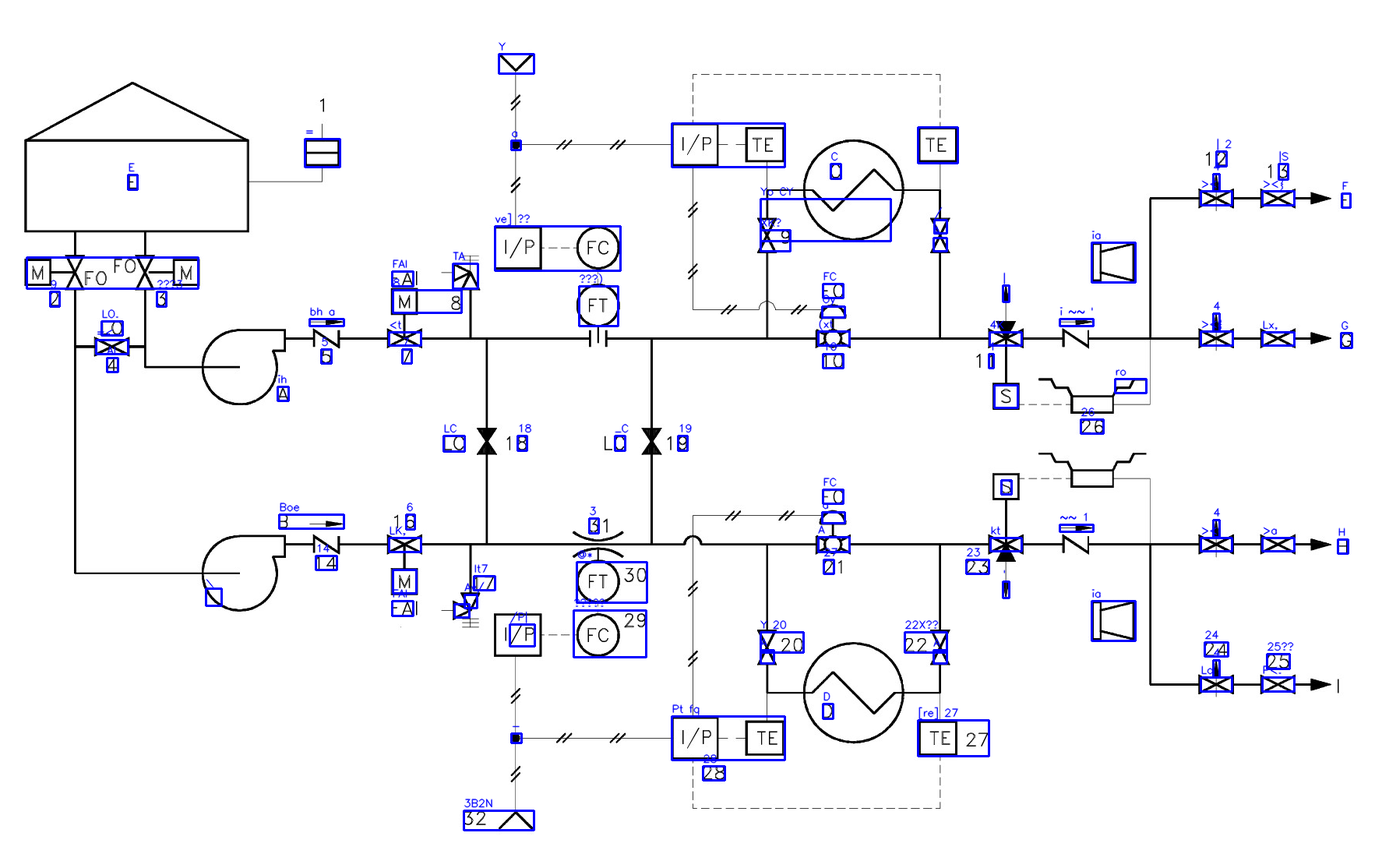Compressor: (197, 531, 289, 616), (197, 326, 289, 410)
Instrumento: (571, 281, 625, 330), (572, 558, 624, 605), (571, 224, 622, 271), (573, 613, 625, 657), (913, 716, 961, 760), (742, 717, 789, 760), (914, 124, 961, 167), (742, 123, 787, 164)
Outro: (1034, 375, 1150, 417), (1033, 448, 1150, 489), (490, 609, 545, 662), (668, 712, 721, 765), (1088, 233, 1139, 286), (491, 223, 546, 272), (668, 121, 721, 170), (1088, 595, 1138, 646), (300, 136, 345, 171), (988, 378, 1027, 415), (989, 468, 1022, 503)
Tanque: (22, 77, 252, 239)
TrocadordeCalor: (799, 637, 907, 749), (801, 137, 906, 241)
Válvula: (130, 251, 203, 295), (382, 526, 426, 598), (19, 249, 87, 295), (383, 286, 430, 351), (982, 309, 1035, 357), (811, 505, 855, 559), (437, 250, 488, 296), (812, 302, 853, 355), (1195, 170, 1238, 217), (1195, 310, 1238, 355), (1194, 516, 1237, 561), (304, 513, 347, 556), (1055, 314, 1098, 357), (441, 590, 484, 632), (984, 530, 1029, 568), (307, 312, 346, 354), (1193, 658, 1238, 694), (1255, 668, 1299, 700), (1055, 521, 1095, 556), (752, 626, 782, 669), (926, 215, 954, 258), (471, 422, 502, 460), (1257, 185, 1300, 212), (754, 214, 780, 257), (1257, 325, 1298, 352), (91, 334, 136, 358), (1258, 530, 1298, 557), (929, 624, 952, 669), (638, 425, 665, 459)
